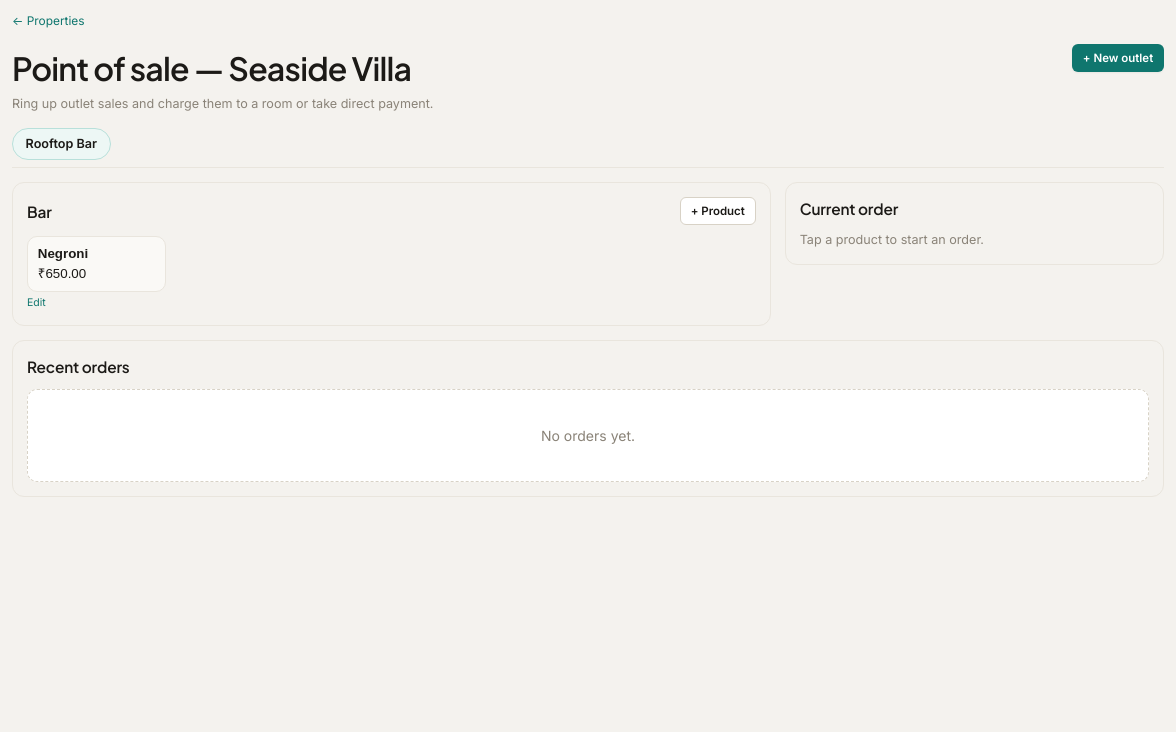
it: PosPage › adds a product to the cart and places a direct-paid order
# Tap the product to add it to the cart.
Click the button "Negroni ₹650.00" at (96, 264), box [27,236,166,292]
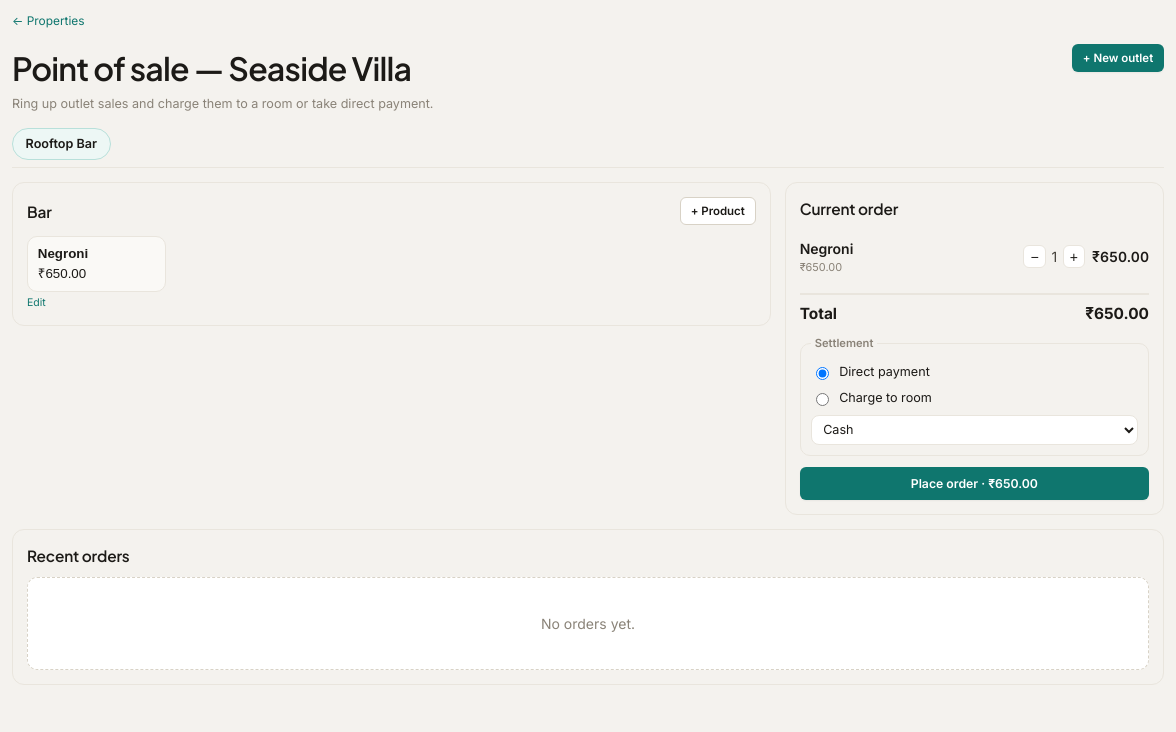
Now the button "Place order · ₹650.00" is enabled
Click the button "Place order · ₹650.00" at (974, 483), box [800,467,1149,500]
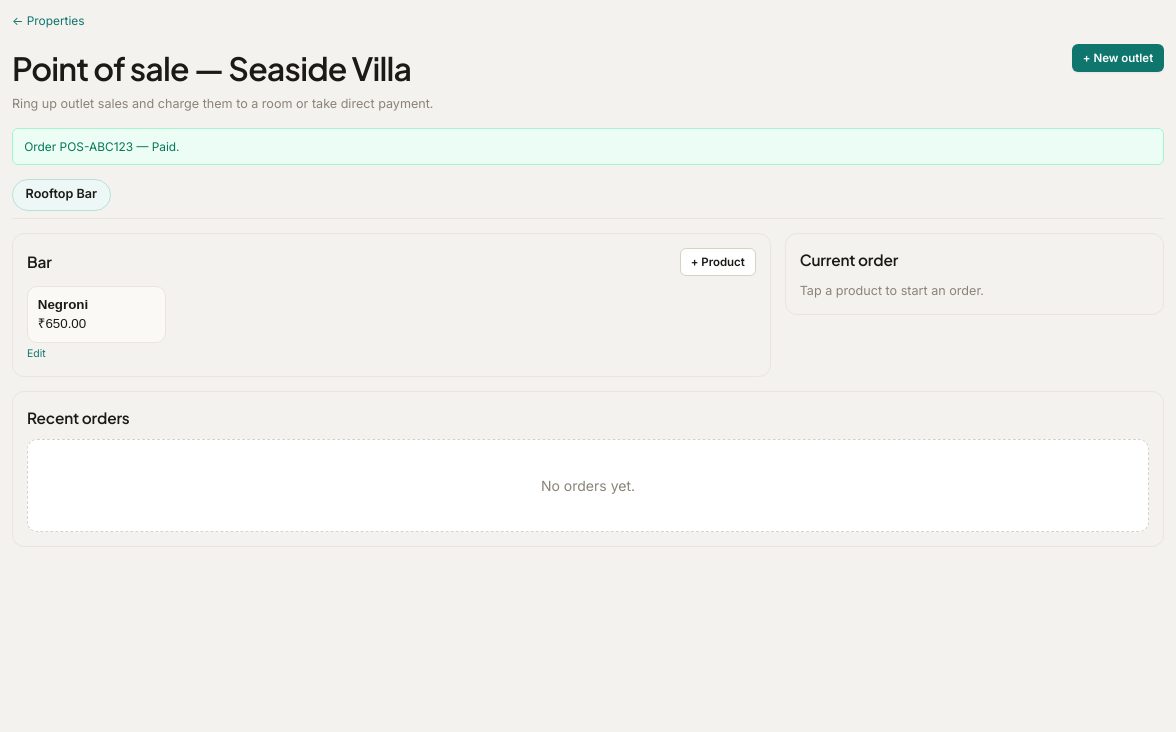
Now the text "Order POS-ABC123 — Paid." is shown, box [12,128,1164,165]
